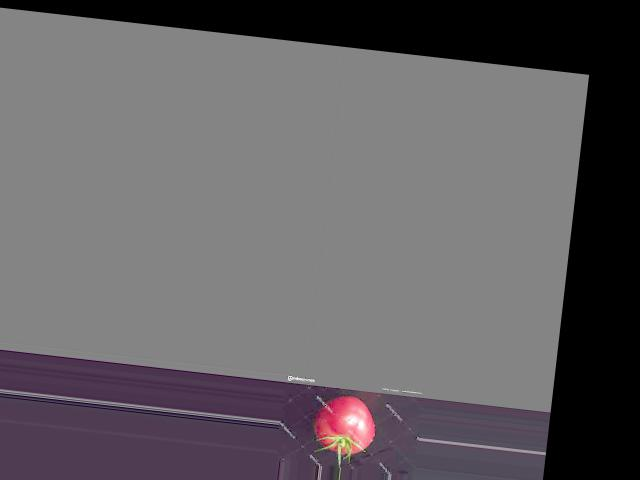tomato: (312, 392, 378, 457)
